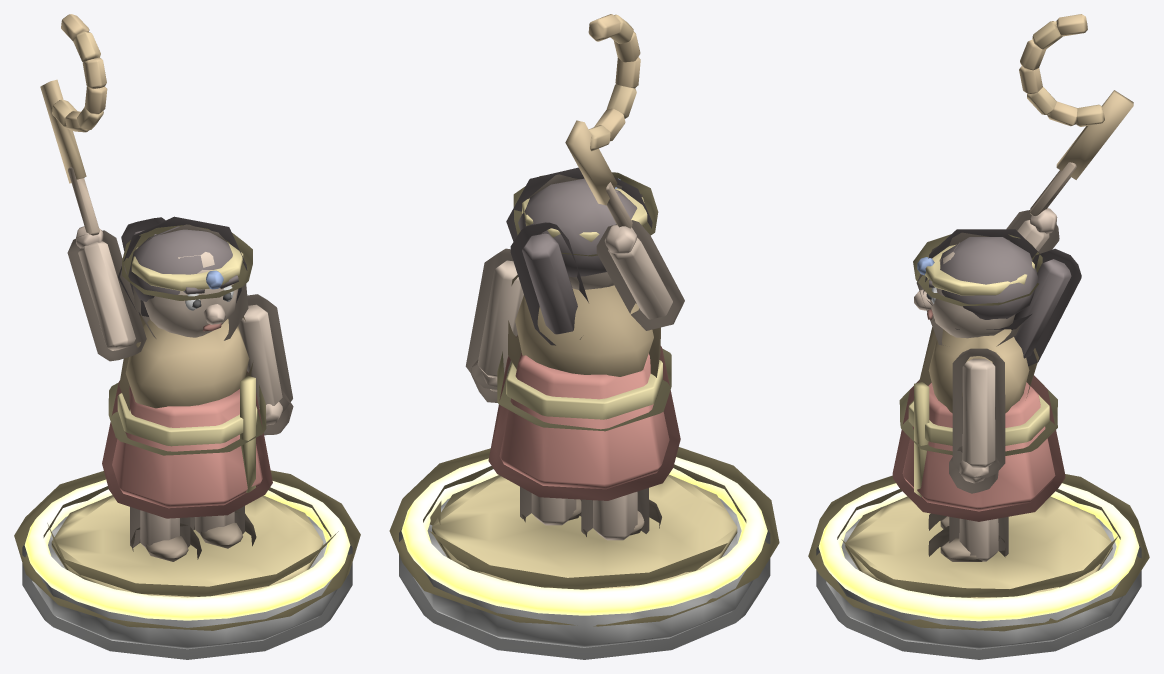
Rendered from kira.glb.
The picture shows the model from 3 angles, left to right: view 1: azimuth 30°, elevation 25°; view 2: azimuth 150°, elevation 25°; view 3: azimuth 270°, elevation 25°; orthographic projection. The views are drawn at different scales.
Parts seen in each view (by area): view 1: M_Body.004, M_HeroKira, M_HeroKira_Outline, M_Body.004_Outline, M_Arm.005, M_Arm.005_Outline; view 2: M_HeroKira, M_Body.004, M_HeroKira_Outline, M_Body.004_Outline, M_Arm.005, M_Arm.005_Outline; view 3: M_HeroKira, M_Body.004, M_Body.004_Outline, M_HeroKira_Outline, M_Arm.005, M_Arm.005_Outline.
Part boxes in pixels (x1,y1,x2,y2): M_Body.004: (112, 226, 282, 561); M_HeroKira: (24, 479, 350, 649); M_HeroKira_Outline: (14, 470, 360, 659); M_Body.004_Outline: (102, 216, 293, 559); M_Arm.005: (40, 14, 135, 350); M_Arm.005_Outline: (67, 230, 146, 361); M_HeroKira: (401, 457, 767, 647); M_Body.004: (477, 178, 669, 540); M_HeroKira_Outline: (389, 447, 779, 659); M_Body.004_Outline: (465, 167, 680, 536); M_Arm.005: (565, 14, 672, 319); M_Arm.005_Outline: (596, 220, 684, 330); M_HeroKira: (818, 483, 1139, 649); M_Body.004: (902, 237, 1071, 561); M_Body.004_Outline: (892, 229, 1081, 557); M_HeroKira_Outline: (808, 474, 1149, 659); M_Arm.005: (1017, 14, 1133, 251); M_Arm.005_Outline: (1006, 210, 1059, 253).
Bounding box in the file's own units: 1.79 × 3.18 × 1.79.
